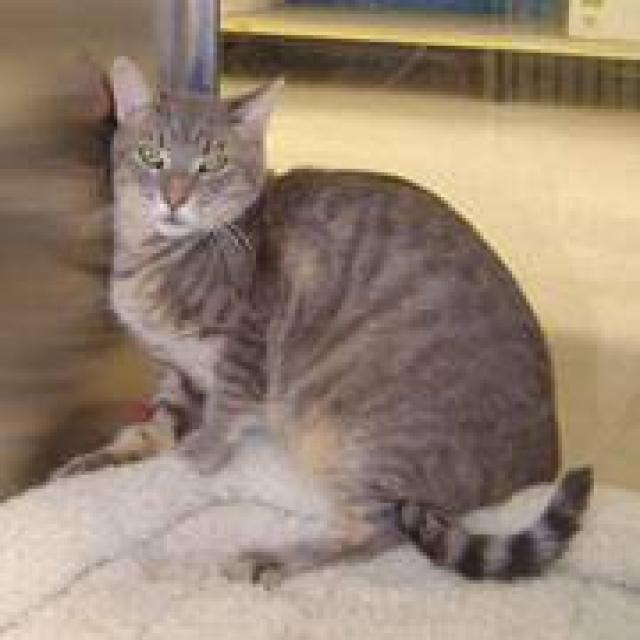cat: (46, 52, 594, 584)
